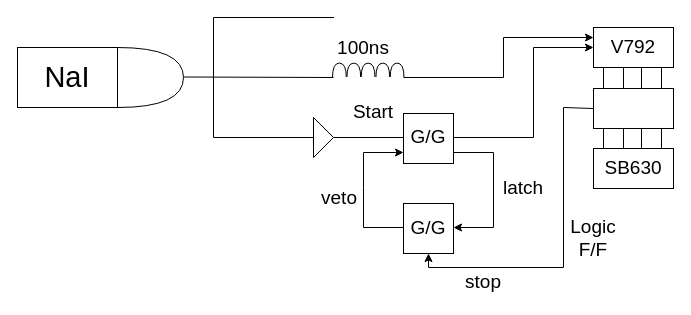
This 691x315 diagram has some shape labels left out. Each missing label, with the box of its shape:
Lupo: (592, 88, 674, 128)
PMT: (116, 46, 184, 108)
